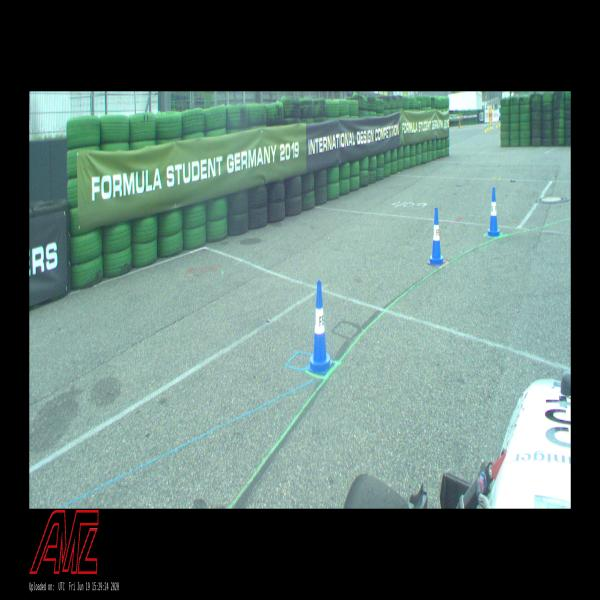blue_cone: (307, 280, 333, 375), (428, 208, 444, 266), (488, 188, 500, 237)
yellow_cone: (486, 124, 488, 131), (491, 122, 493, 129), (489, 123, 491, 129), (484, 126, 486, 132), (496, 121, 497, 128)
